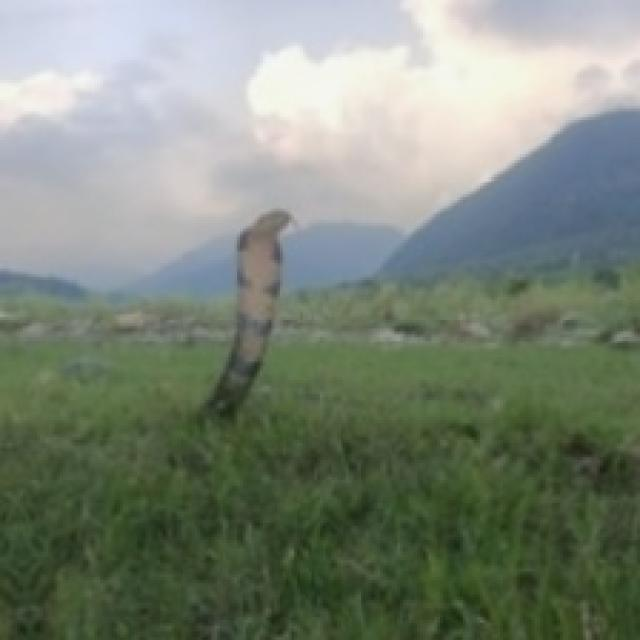king cobra: (206, 211, 289, 414)
